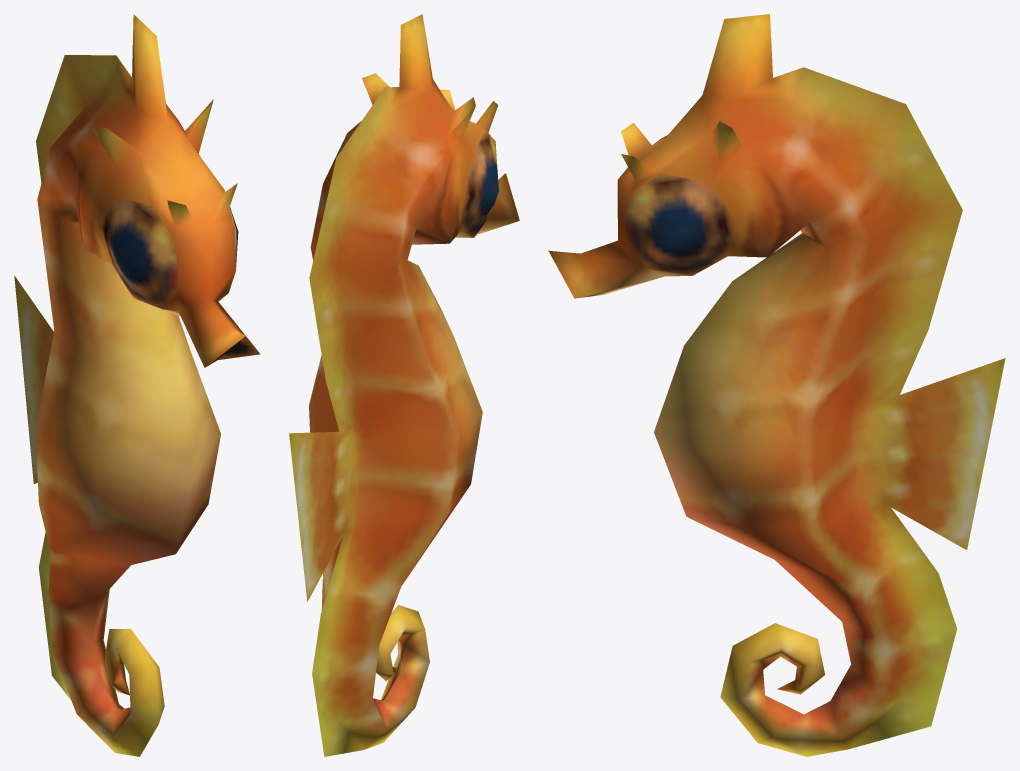
File: FishTatsunootoshigo.glb
3 renders of one model, left to right at view 1: azimuth 30°, elevation 25°; view 2: azimuth 150°, elevation 25°; view 3: azimuth 270°, elevation 25°, orthographic. The views are drawn at different scales.
Visible parts, largest first — view 1: FishTatsunootoshigo__mTatsunootoshigo; view 2: FishTatsunootoshigo__mTatsunootoshigo; view 3: FishTatsunootoshigo__mTatsunootoshigo.
Boxes of the visible parts, box(x1,y1,x2,y2) form: FishTatsunootoshigo__mTatsunootoshigo: box(14, 14, 260, 756); FishTatsunootoshigo__mTatsunootoshigo: box(289, 14, 519, 756); FishTatsunootoshigo__mTatsunootoshigo: box(548, 14, 1005, 756).
Bounding box in the file's own units: 0.6801 × 3.09 × 1.72.
Materials: 1 (1 with a texture image).
